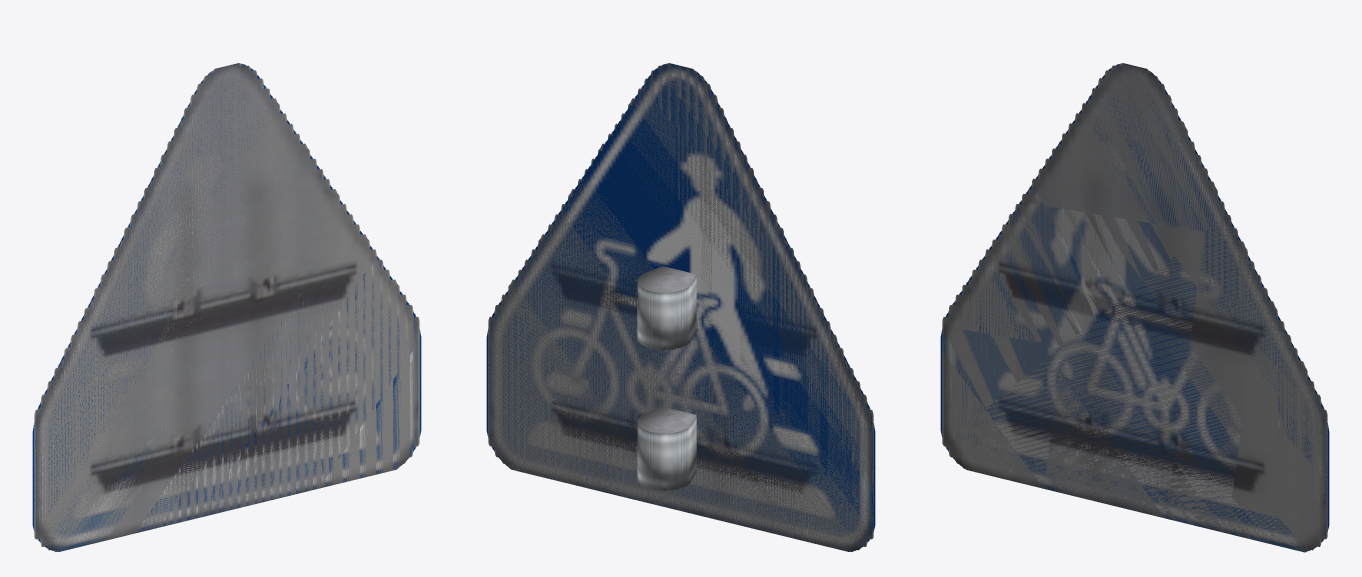
Rendered from Parts_Plate_Pentagon400.fbx.
3 views of the same model, side by side, from view 1: azimuth 30°, elevation 25°; view 2: azimuth 150°, elevation 25°; view 3: azimuth 330°, elevation 25° (orthographic).
Visible parts, largest first — view 1: 961_plate_pentagon400; view 2: 961_plate_pentagon400; view 3: 961_plate_pentagon400.
Boxes of the visible parts, x1,y1,x2,y2 form: 961_plate_pentagon400: [32, 63, 421, 551]; 961_plate_pentagon400: [486, 63, 875, 551]; 961_plate_pentagon400: [940, 63, 1329, 552].
Bounding box in the file's own units: 0.4 × 0.4 × 0.0493.
